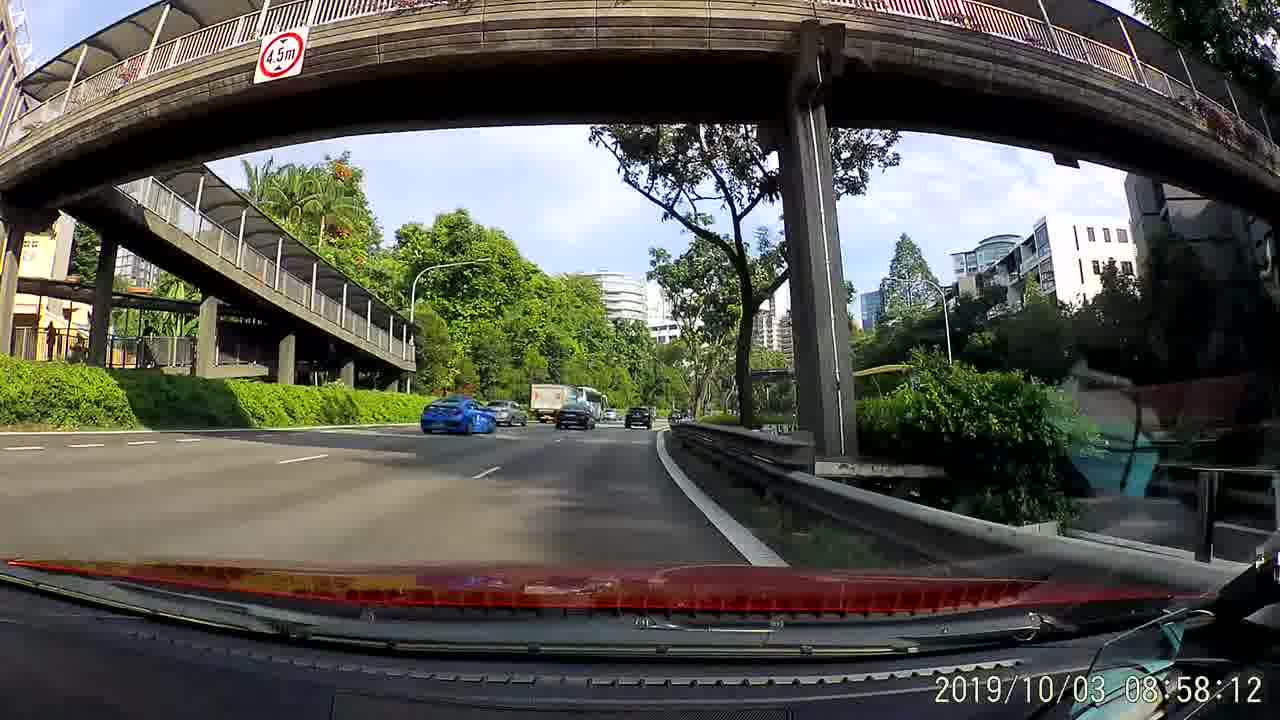bus: (575, 384, 606, 419)
car: (419, 395, 496, 437), (556, 401, 598, 432), (485, 402, 532, 427), (624, 404, 651, 430), (601, 410, 621, 423)
